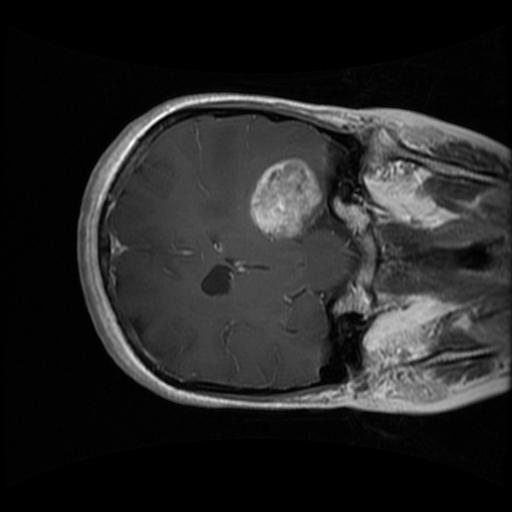glioma: (245, 154, 326, 246)
